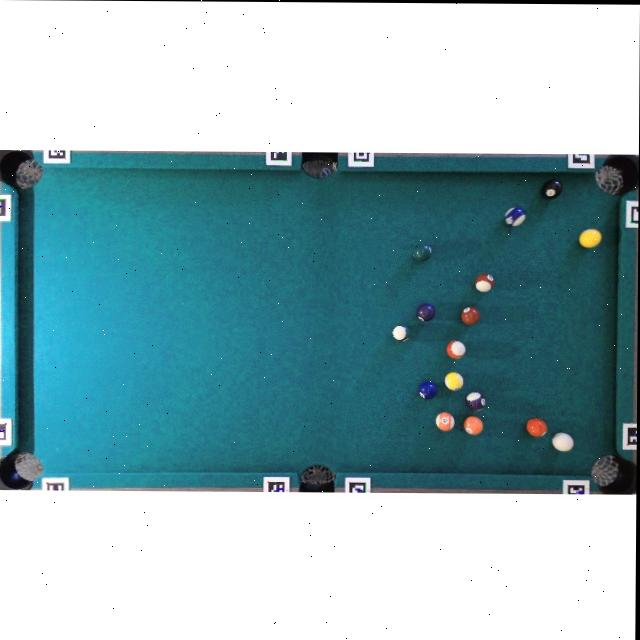cue ball: (552, 433, 574, 452)
other: (526, 417, 548, 438), (541, 179, 563, 200), (504, 206, 526, 226), (410, 243, 432, 263), (463, 415, 483, 436), (579, 229, 601, 248), (435, 411, 455, 431), (465, 392, 486, 411), (446, 340, 466, 359), (418, 381, 437, 400), (461, 307, 480, 325), (445, 372, 464, 390), (475, 274, 493, 292), (417, 304, 435, 322), (392, 325, 411, 342)
